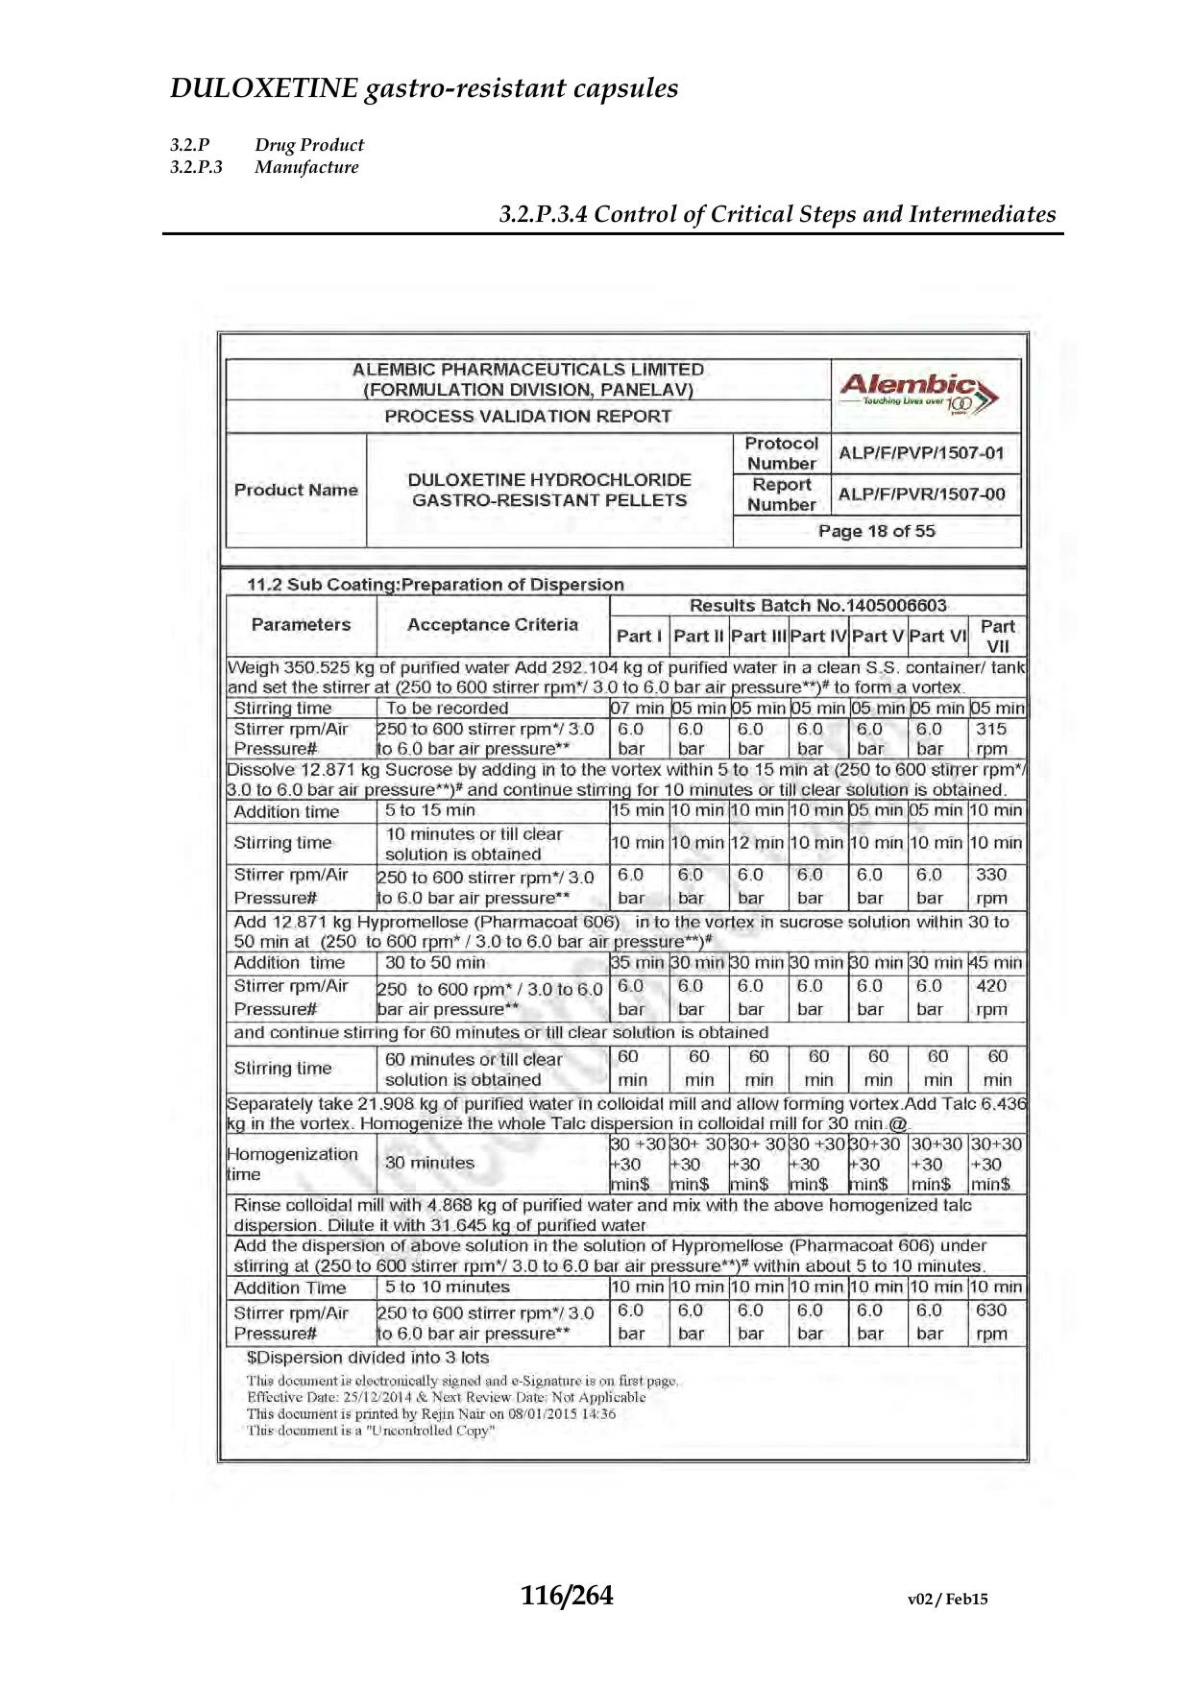merged_cells: (224, 593, 1028, 1348), (223, 357, 1023, 550)
